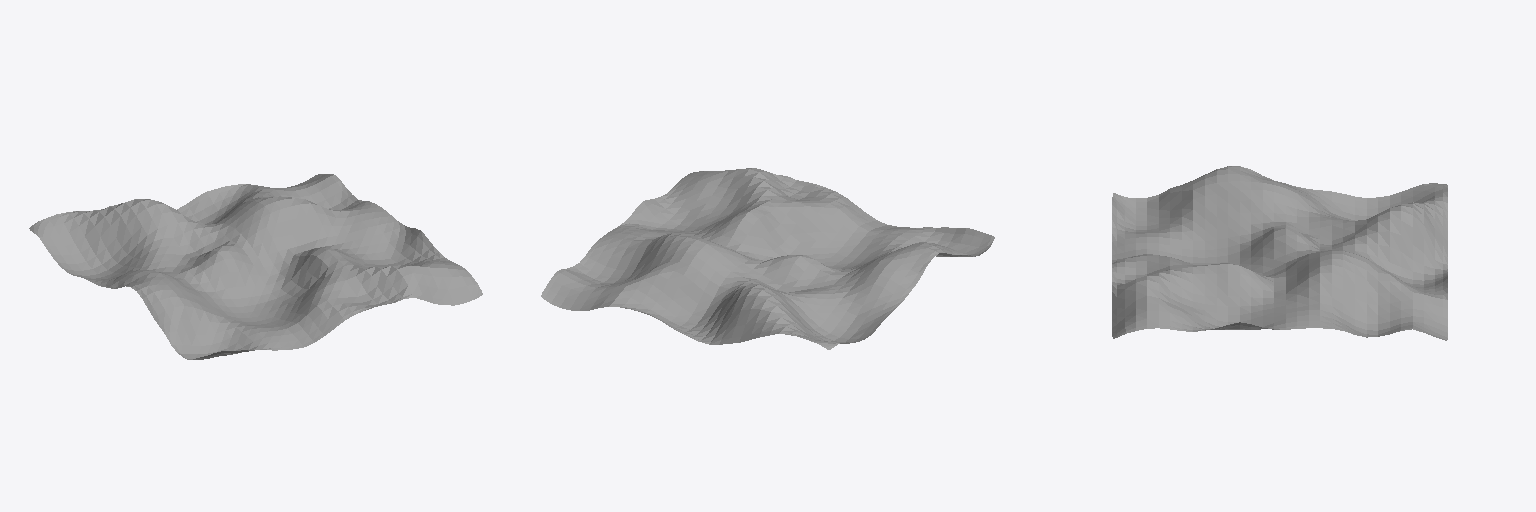
Rendered from Terrain.obj.
3 renders of one model, left to right at view 1: azimuth 30°, elevation 25°; view 2: azimuth 150°, elevation 25°; view 3: azimuth 270°, elevation 25°, orthographic.
Size of the model in its own units: 3.75 by 0.6013 by 3.75.